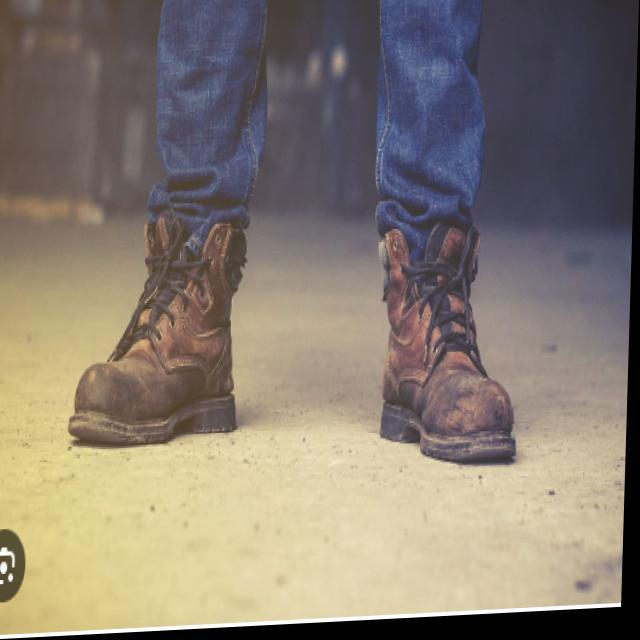boots: (60, 171, 529, 496)
